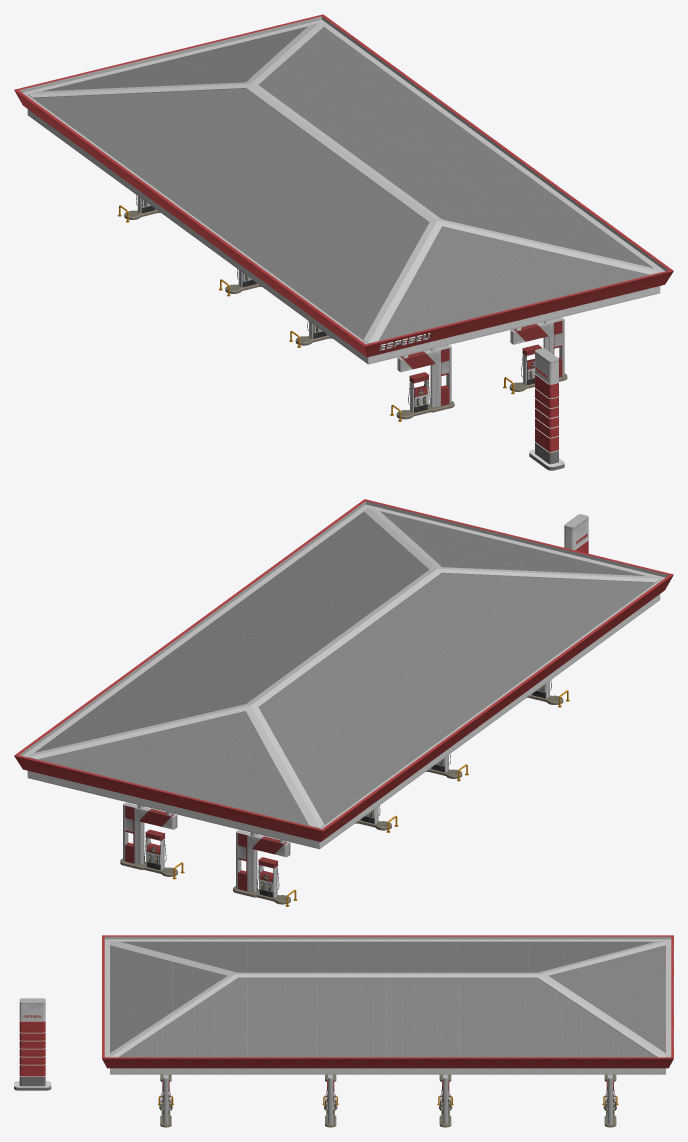
Rendered from spbu.glb.
3 views of the same model, one above another, from view 1: azimuth 30°, elevation 25°; view 2: azimuth 150°, elevation 25°; view 3: azimuth 270°, elevation 25° (orthographic). The views are drawn at different scales.
Parts seen in each view (by area): view 1: SM_SPBU_Roof, SM_GasolinePump.005, SM_Sign_Large, SM_GasolinePump.004; view 2: SM_SPBU_Roof, SM_GasolinePump.003, SM_GasolinePump.002, SM_Sign_Large; view 3: SM_SPBU_Roof, SM_Sign_Large, SM_GasolinePump.002, SM_GasolinePump.004, SM_GasolinePump.006, SM_GasolinePump.
Boxes of the visible parts, x1,y1,x2,y2 form: SM_SPBU_Roof: (14, 14, 673, 364); SM_GasolinePump.005: (390, 345, 454, 421); SM_Sign_Large: (529, 348, 564, 470); SM_GasolinePump.004: (503, 317, 567, 394); SM_SPBU_Roof: (14, 499, 673, 849); SM_GasolinePump.003: (233, 830, 297, 906); SM_GasolinePump.002: (120, 802, 184, 879); SM_Sign_Large: (564, 514, 588, 553); SM_SPBU_Roof: (102, 935, 673, 1074); SM_Sign_Large: (14, 998, 51, 1090); SM_GasolinePump.002: (602, 1074, 618, 1127); SM_GasolinePump.004: (158, 1074, 173, 1127); SM_GasolinePump.006: (437, 1074, 453, 1127); SM_GasolinePump: (322, 1074, 338, 1127).
Size of the model in its own units: 20.76 by 9.35 by 47.02.
3 materials, 3 textured.
